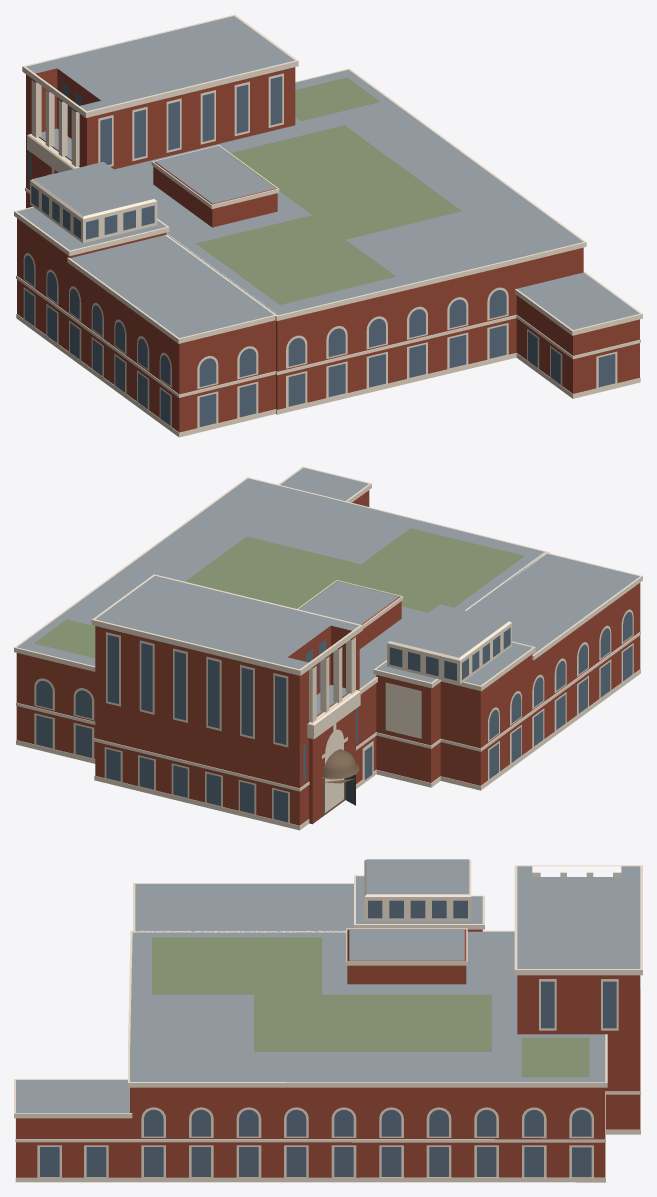
File: phl-museum-american-revolution.glb
The picture shows the model from 3 angles, top to bottom: view 1: azimuth 30°, elevation 25°; view 2: azimuth 150°, elevation 25°; view 3: azimuth 270°, elevation 25°; orthographic projection. The views are drawn at different scales.
Parts seen in each view (by area): view 1: Museum of the American Revolution; view 2: Museum of the American Revolution; view 3: Museum of the American Revolution.
Part boxes in pixels (x1,y1,x2,y2): Museum of the American Revolution: (14, 14, 642, 437); Museum of the American Revolution: (14, 466, 642, 830); Museum of the American Revolution: (14, 859, 642, 1182).
Bounding box in the file's own units: 55.73 × 21.5 × 74.07.
